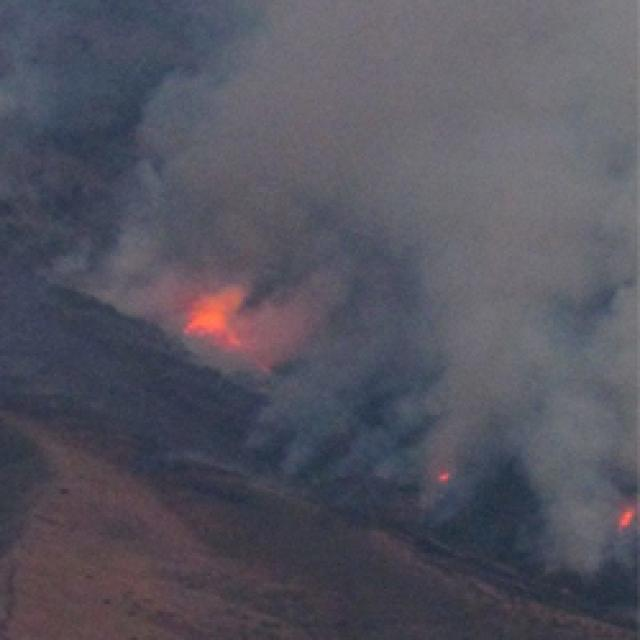Fire: (176, 295, 232, 342), (610, 503, 638, 535)
Smoke: (93, 28, 640, 581), (214, 36, 638, 219)
